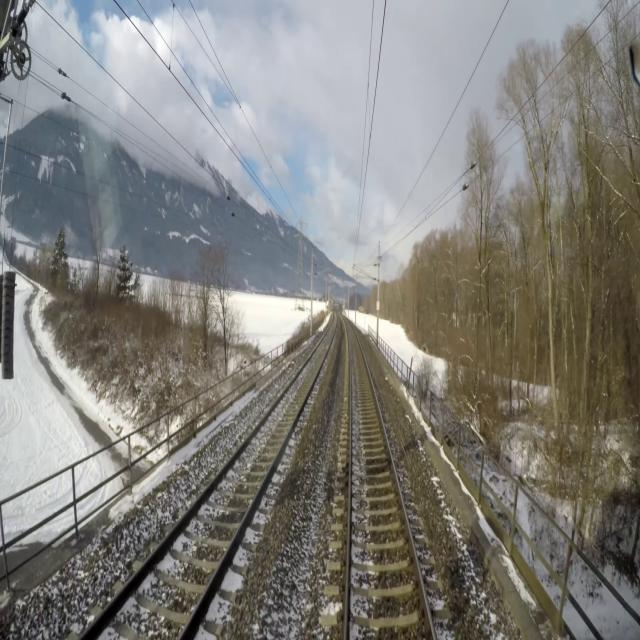rail-track: (84, 313, 336, 639), (345, 318, 432, 639)
